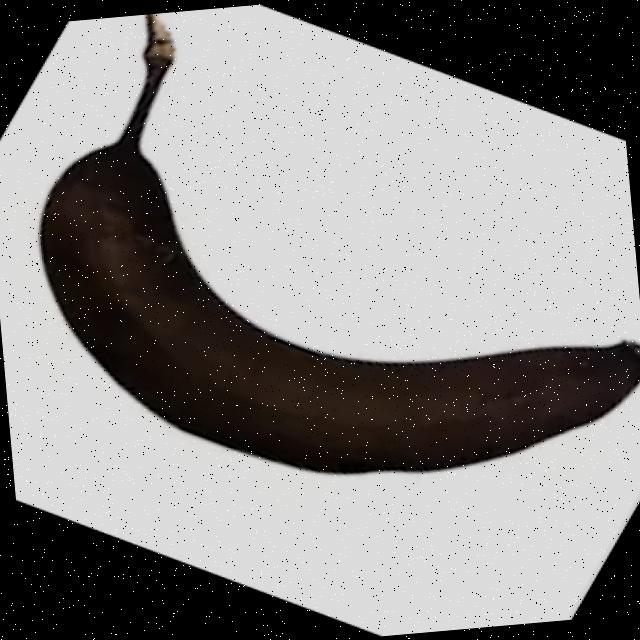Rotten: (17, 0, 640, 505)
